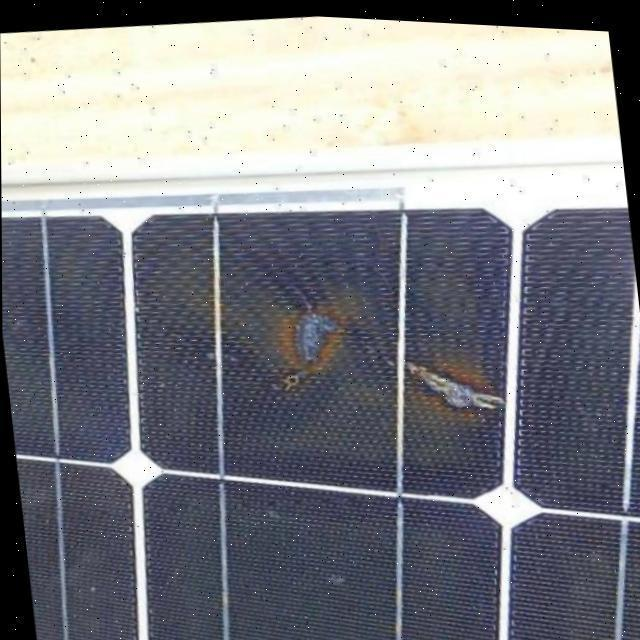Anomaly Solar Panel: (1, 130, 640, 640)
Structural Damage: (408, 358, 501, 416), (283, 298, 344, 365), (267, 352, 313, 410)
